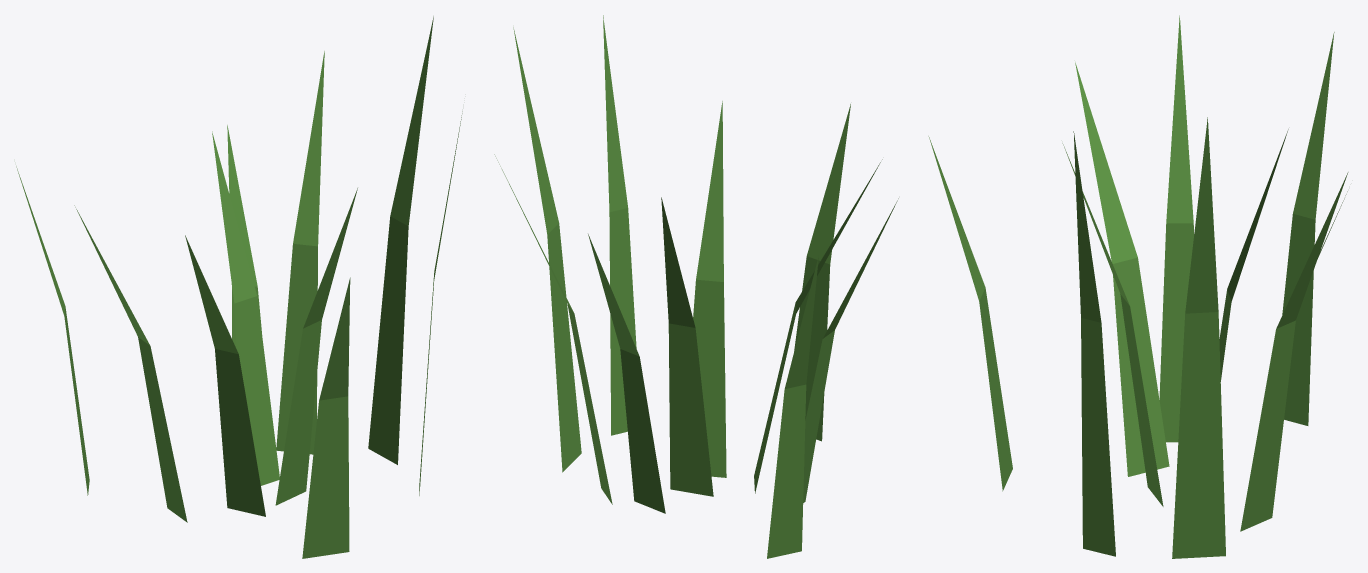
Rendered from grass_mid.glb.
The picture shows the model from 3 angles, left to right: view 1: azimuth 30°, elevation 25°; view 2: azimuth 150°, elevation 25°; view 3: azimuth 270°, elevation 25°; orthographic projection. The views are drawn at different scales.
Parts seen in each view (by area): view 1: GRASS_MID; view 2: GRASS_MID; view 3: GRASS_MID.
Part boxes in pixels (x1,y1,x2,y2): GRASS_MID: (16, 16, 462, 558); GRASS_MID: (494, 15, 898, 558); GRASS_MID: (928, 15, 1348, 558).
Bounding box in the file's own units: 0.55 × 0.6009 × 0.4929.
